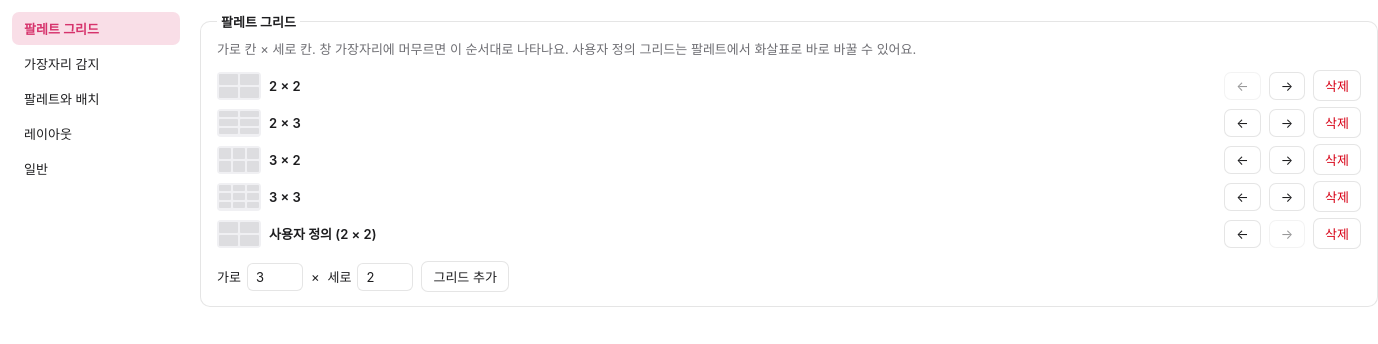
it: GridTab › shows validation errors from the main process
The width and height of the screenshot is (1378, 344).
Step 1. Click the tab "가장자리 감지" → [96, 64], box [12,47,180,80]
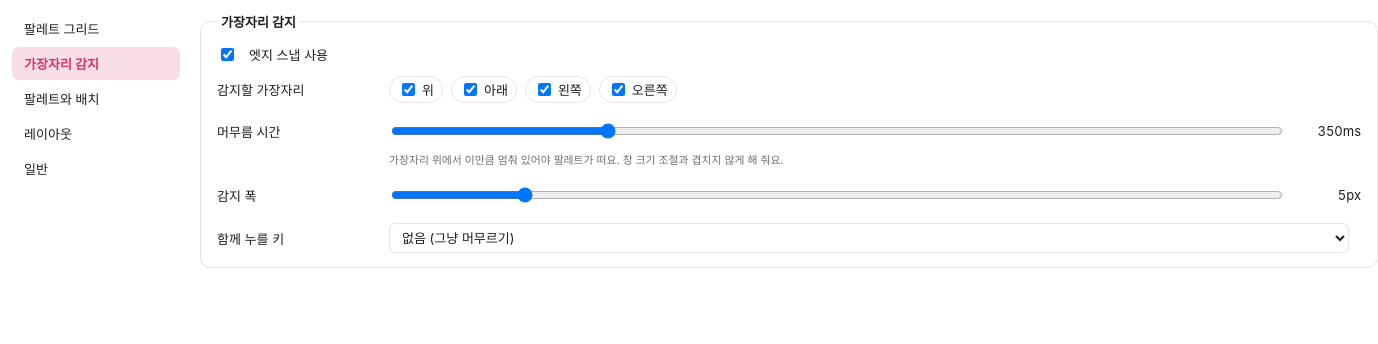
Step 2. Click the checkbox labelled "엣지 스냅 사용" → [228, 54], box [221,48,234,61]
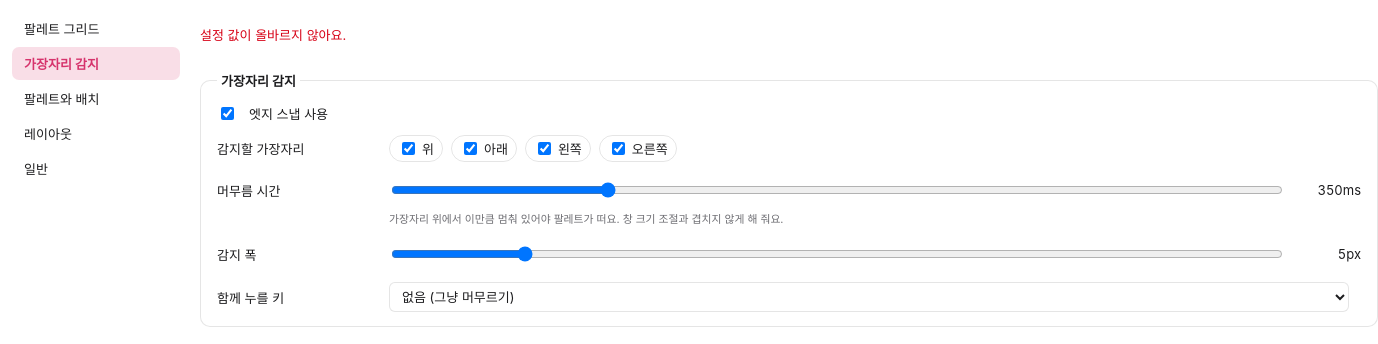
Result: the message reads "설정 값이 올바르지 않아요." at [200,27,346,43]
